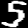g: (0, 0, 28, 28)
